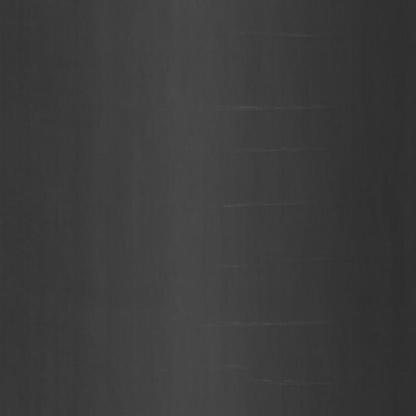waist_folding: (210, 29, 342, 395)
